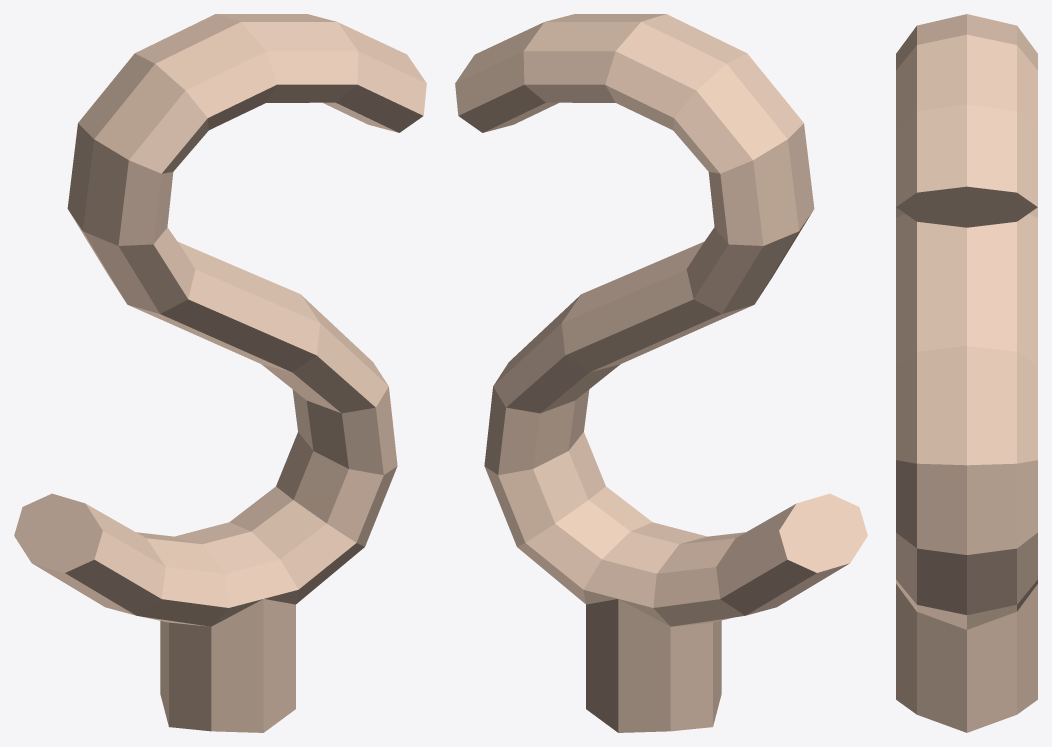
Rendered from SSS.obj.
3 views of the same model, side by side, from view 1: azimuth 30°, elevation 25°; view 2: azimuth 150°, elevation 25°; view 3: azimuth 270°, elevation 25° (orthographic).
Visible parts, largest first — view 1: Cylinder; view 2: Cylinder; view 3: Cylinder.
Part boxes in pixels (bbox=[...]): Cylinder: bbox=[14, 14, 426, 732]; Cylinder: bbox=[455, 14, 867, 732]; Cylinder: bbox=[896, 14, 1037, 732].
Size of the model in its own units: 0.8852 by 1.55 by 0.2938.
